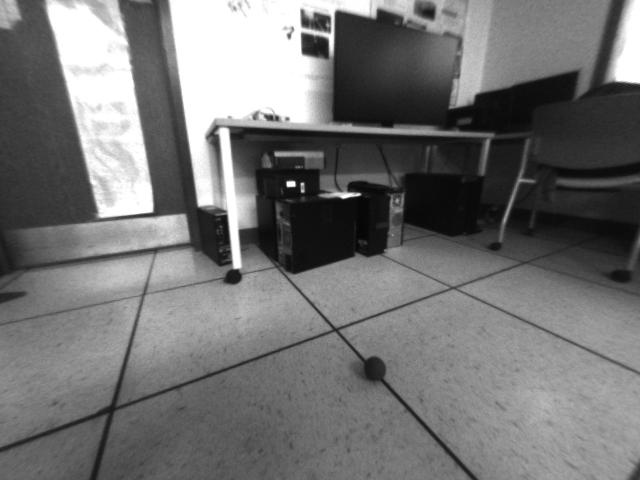dogtoy: (356, 346, 396, 387)
